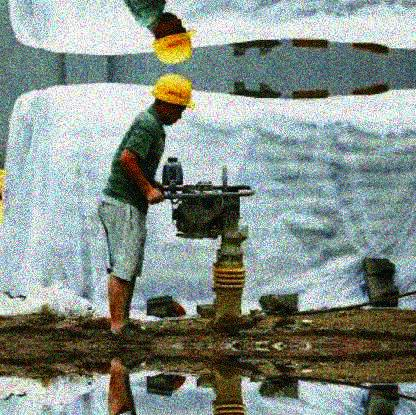helmet: (148, 72, 195, 127), (151, 10, 195, 64)
